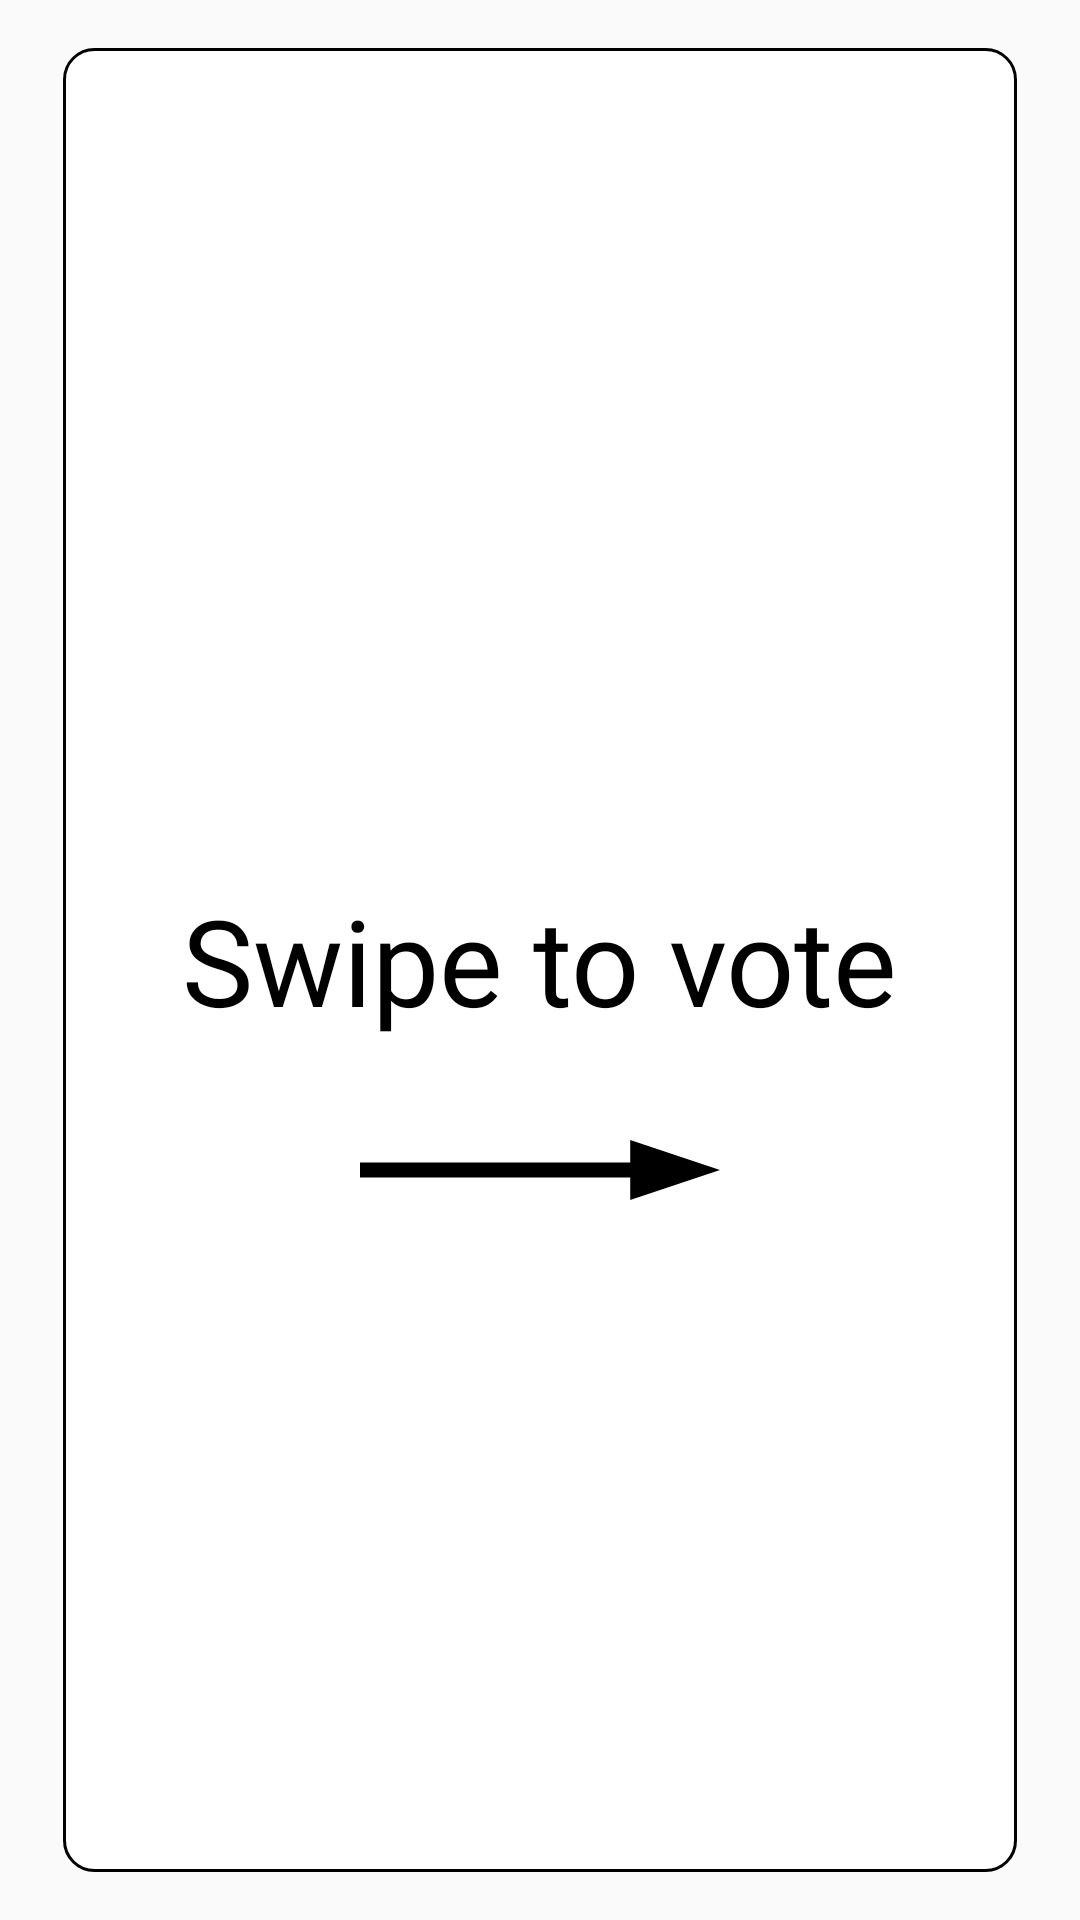

Point at icon controls on the screen. Image size 1080×1920, points as (x=x, y=y).
right arrow: (x=540, y=1170)
